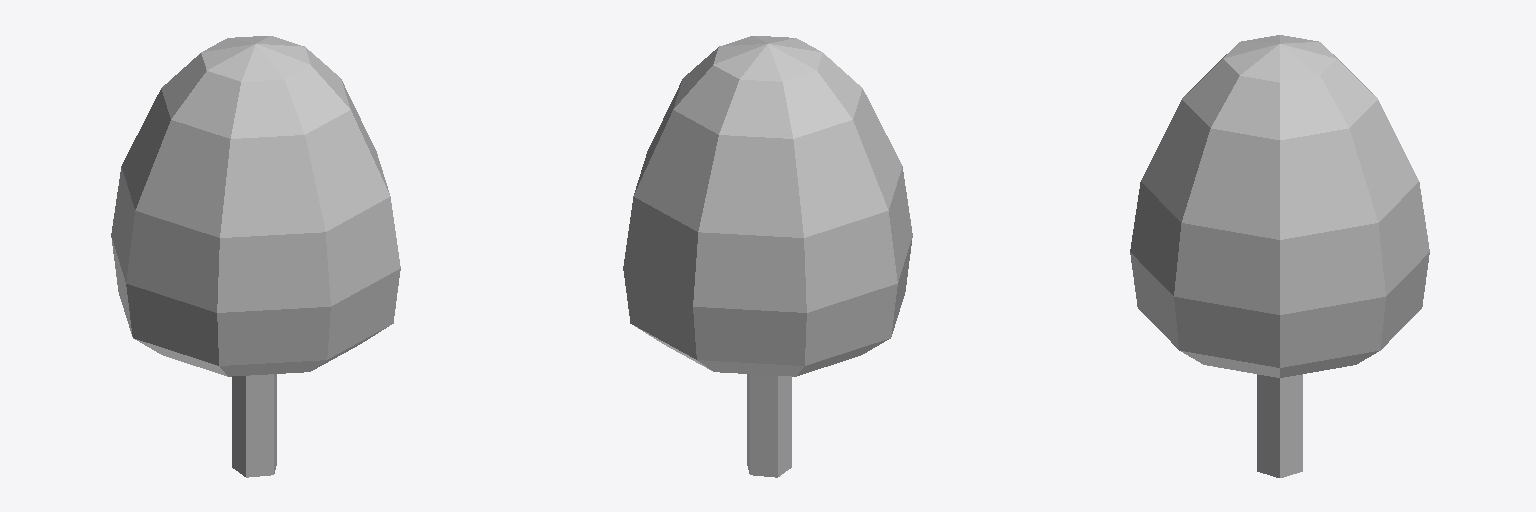
Rendered from Tree.obj.
The picture shows the model from 3 angles: view 1: azimuth 30°, elevation 25°; view 2: azimuth 150°, elevation 25°; view 3: azimuth 270°, elevation 25°; orthographic projection.
Parts seen in each view (by area): view 1: N64_Tree-COM-skpAFC2-2722-auto; view 2: N64_Tree-COM-skpAFC2-2722-auto; view 3: N64_Tree-COM-skpAFC2-2722-auto.
Part boxes in pixels (x1,y1,x2,y2): N64_Tree-COM-skpAFC2-2722-auto: (111, 36, 400, 477); N64_Tree-COM-skpAFC2-2722-auto: (623, 36, 912, 477); N64_Tree-COM-skpAFC2-2722-auto: (1130, 35, 1429, 477).
Size of the model in its own units: 84.48 by 132 by 84.48.